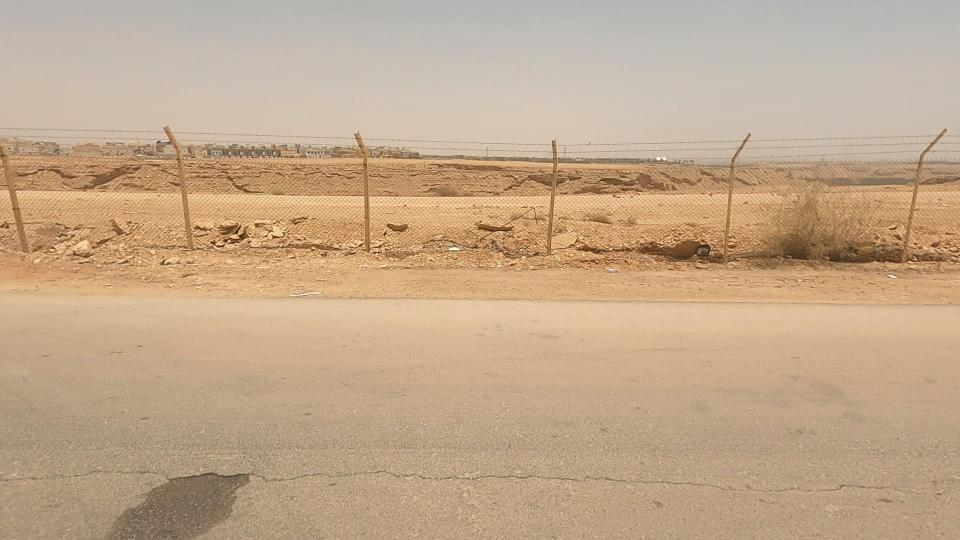GARBAGE: (422, 216, 496, 278), (577, 252, 644, 285)
